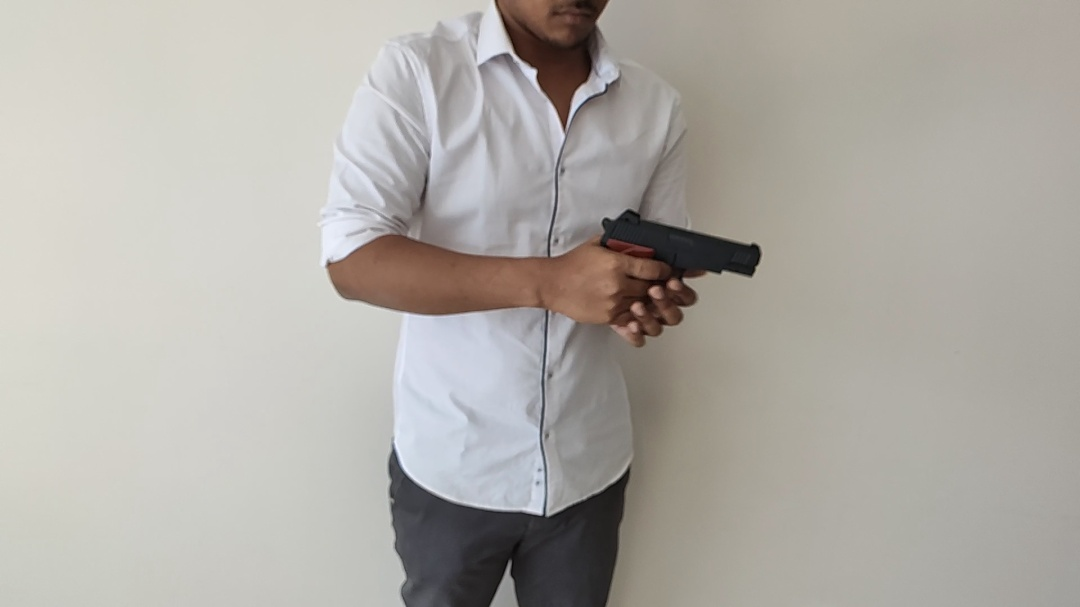gun: (163, 7, 984, 503)
